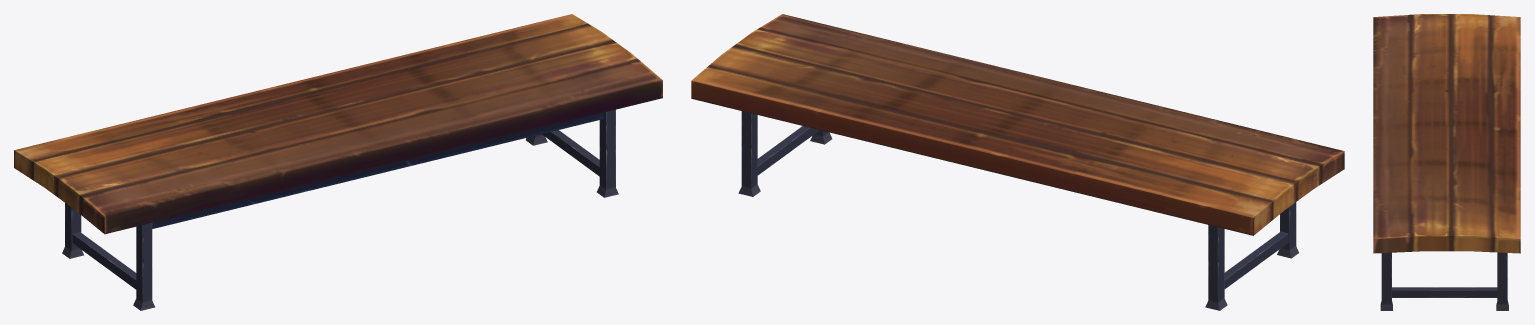
The model's file is HuBian_NightYiZi_fbx.FBX.
The picture shows the model from 3 angles, left to right: view 1: azimuth 30°, elevation 25°; view 2: azimuth 150°, elevation 25°; view 3: azimuth 270°, elevation 25°; orthographic projection. The views are drawn at different scales.
Visible parts, largest first — view 1: Box052; view 2: Box052; view 3: Box052.
Part boxes in pixels (x1,y1,x2,y2): Box052: [14, 14, 662, 310]; Box052: [691, 14, 1344, 310]; Box052: [1373, 14, 1520, 310].
Bounding box in the file's own units: 2.53 × 0.4831 × 0.7114.
